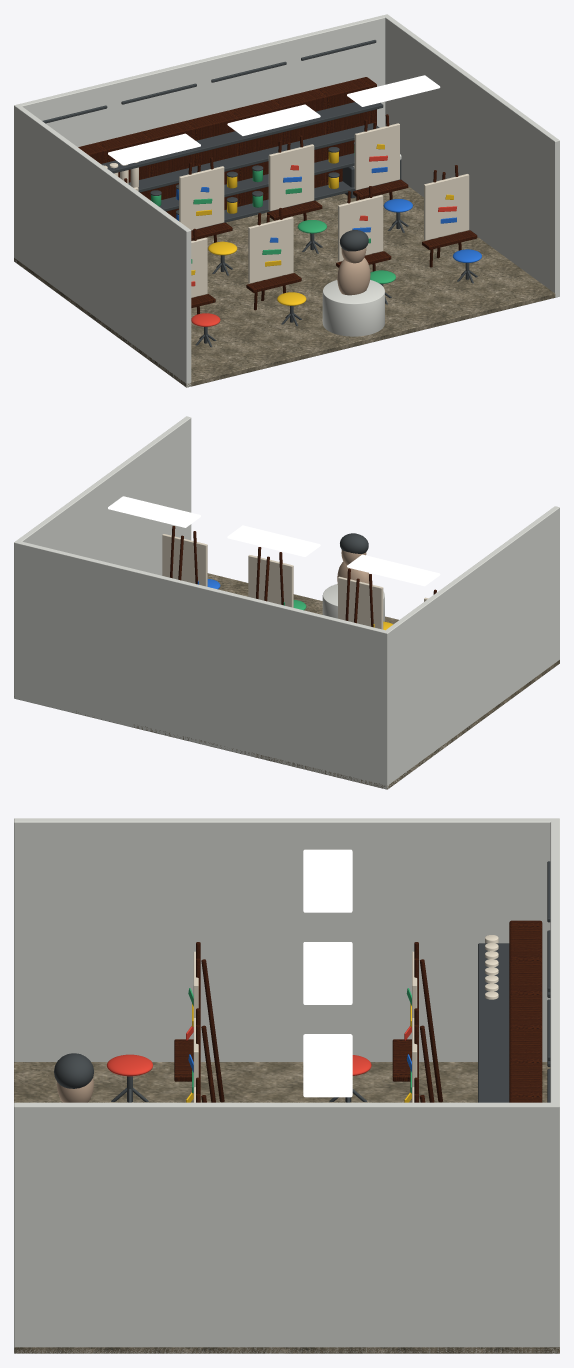
Rendered from classroom_art_studio.glb.
3 views of the same model, one above another, from view 1: azimuth 30°, elevation 25°; view 2: azimuth 150°, elevation 25°; view 3: azimuth 270°, elevation 25° (orthographic). The views are drawn at different scales.
Parts seen in each view (by area): view 1: RefinedSurface_ArtStudio_WhitePlaster, ArtStudio_Floor, RefinedSurface_ArtStudio_Canvas, RefinedSurface_ArtStudio_BirchWood, RefinedSurface_ArtStudio_BlackSteel, RefinedSurface_ArtStudio_DaylightPanel, RefinedSurface_ArtStudio_YellowPaint, RefinedSurface_ArtStudio_GreenPaint, RefinedSurface_ArtStudio_SculptureClay, RefinedSurface_ArtStudio_CobaltPaint, RefinedSurface_ArtStudio_CadmiumPaint; view 2: RefinedSurface_ArtStudio_WhitePlaster, RefinedSurface_ArtStudio_Canvas, RefinedSurface_ArtStudio_DaylightPanel, ArtStudio_Floor, RefinedSurface_ArtStudio_BirchWood, RefinedSurface_ArtStudio_SculptureClay, RefinedSurface_ArtStudio_BlackSteel; view 3: RefinedSurface_ArtStudio_WhitePlaster, ArtStudio_Floor, RefinedSurface_ArtStudio_BirchWood, RefinedSurface_ArtStudio_DaylightPanel, RefinedSurface_ArtStudio_BlackSteel, RefinedSurface_ArtStudio_Canvas, RefinedSurface_ArtStudio_CadmiumPaint.
Boxes of the visible parts, bbox=[...] form: RefinedSurface_ArtStudio_WhitePlaster: bbox=[14, 14, 559, 387]; ArtStudio_Floor: bbox=[14, 186, 555, 387]; RefinedSurface_ArtStudio_Canvas: bbox=[103, 123, 469, 297]; RefinedSurface_ArtStudio_BirchWood: bbox=[78, 77, 477, 314]; RefinedSurface_ArtStudio_BlackSteel: bbox=[42, 40, 477, 347]; RefinedSurface_ArtStudio_DaylightPanel: bbox=[108, 75, 440, 165]; RefinedSurface_ArtStudio_YellowPaint: bbox=[191, 144, 453, 305]; RefinedSurface_ArtStudio_GreenPaint: bbox=[151, 145, 395, 283]; RefinedSurface_ArtStudio_SculptureClay: bbox=[337, 247, 370, 295]; RefinedSurface_ArtStudio_CobaltPaint: bbox=[176, 167, 481, 262]; RefinedSurface_ArtStudio_CadmiumPaint: bbox=[191, 155, 456, 326]; RefinedSurface_ArtStudio_WhitePlaster: bbox=[14, 416, 559, 789]; RefinedSurface_ArtStudio_Canvas: bbox=[162, 534, 428, 629]; RefinedSurface_ArtStudio_DaylightPanel: bbox=[108, 496, 440, 586]; ArtStudio_Floor: bbox=[14, 573, 559, 789]; RefinedSurface_ArtStudio_BirchWood: bbox=[170, 526, 436, 626]; RefinedSurface_ArtStudio_SculptureClay: bbox=[337, 550, 369, 584]; RefinedSurface_ArtStudio_BlackSteel: bbox=[340, 533, 368, 553]; RefinedSurface_ArtStudio_WhitePlaster: bbox=[14, 818, 559, 1353]; ArtStudio_Floor: bbox=[14, 1062, 559, 1353]; RefinedSurface_ArtStudio_BirchWood: bbox=[174, 920, 542, 1102]; RefinedSurface_ArtStudio_DaylightPanel: bbox=[303, 849, 352, 1097]; RefinedSurface_ArtStudio_BlackSteel: bbox=[54, 861, 550, 1102]; RefinedSurface_ArtStudio_Canvas: bbox=[193, 935, 498, 1102]; RefinedSurface_ArtStudio_CadmiumPaint: bbox=[107, 1026, 411, 1076].
Size of the model in its own units: 10 by 4 by 8.
Materials: 12 (2 with a texture image).
